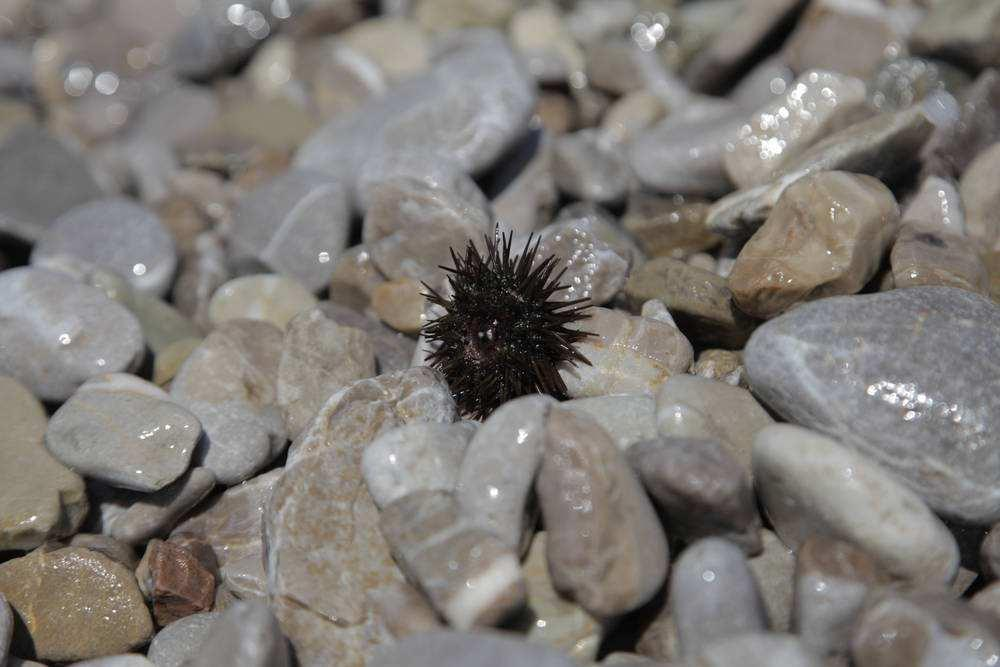urchin: (406, 221, 603, 424)
